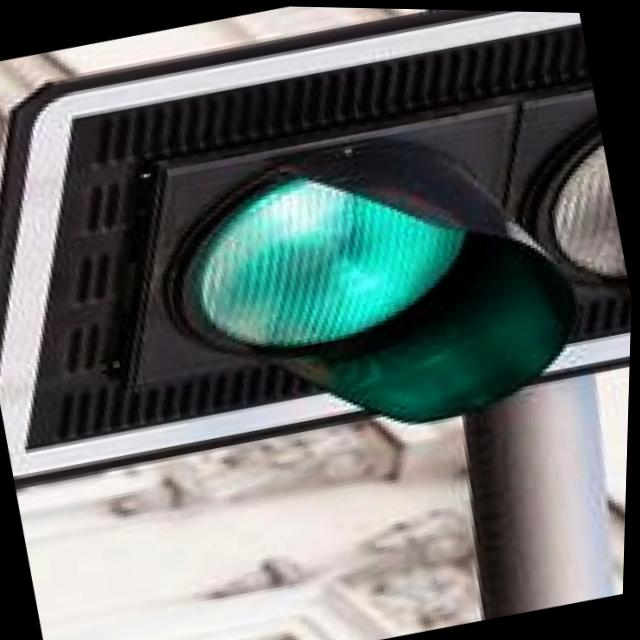green_light: (140, 69, 572, 460)
